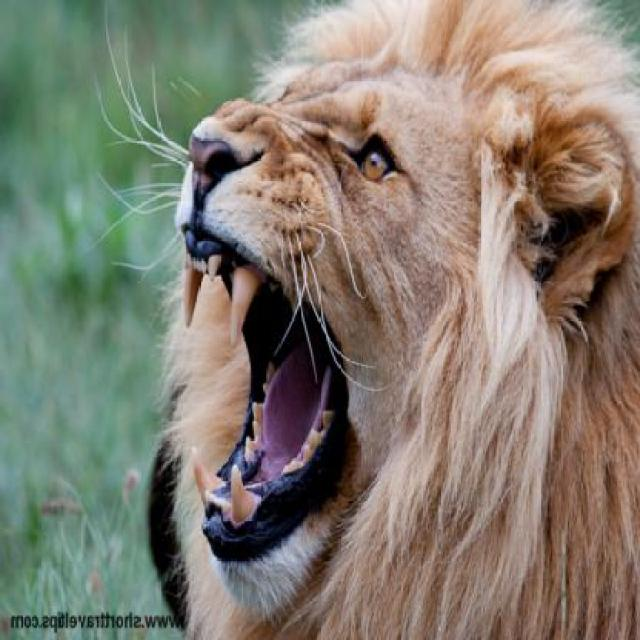Lion: (115, 17, 632, 638)
